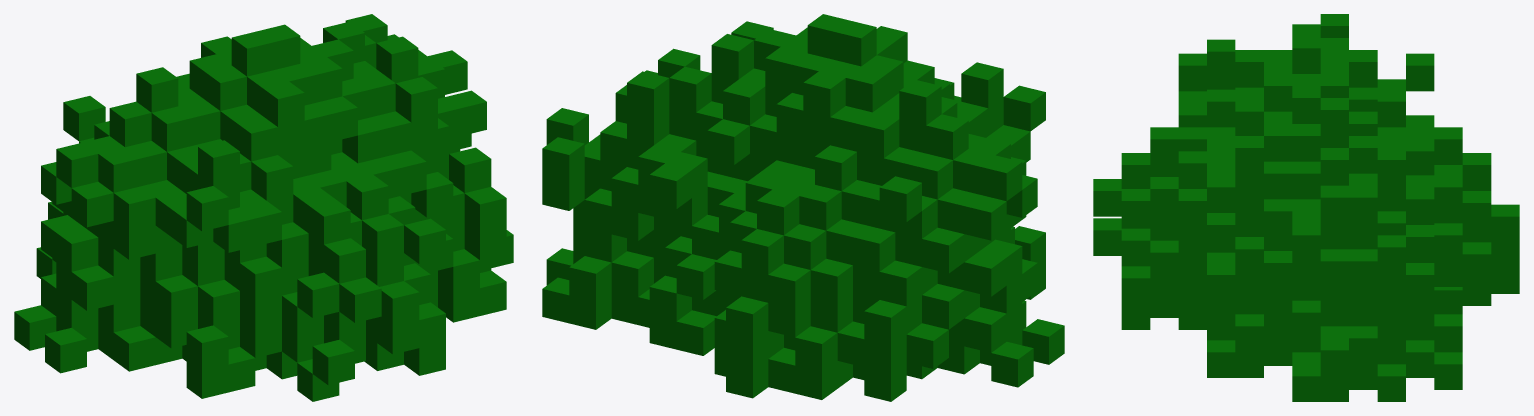
File: Trainvasion Moterman-1-Bush.obj
The picture shows the model from 3 angles, left to right: view 1: azimuth 30°, elevation 25°; view 2: azimuth 150°, elevation 25°; view 3: azimuth 270°, elevation 25°; orthographic projection. The views are drawn at different scales.
Parts seen in each view (by area): view 1: Bush; view 2: Bush; view 3: Bush.
Boxes of the visible parts, bbox=[...] form: Bush: bbox=[14, 14, 513, 401]; Bush: bbox=[542, 14, 1064, 401]; Bush: bbox=[1093, 14, 1519, 401].
Bounding box in the file's own units: 1.7 × 1 × 1.5.
1 material, 1 textured.
